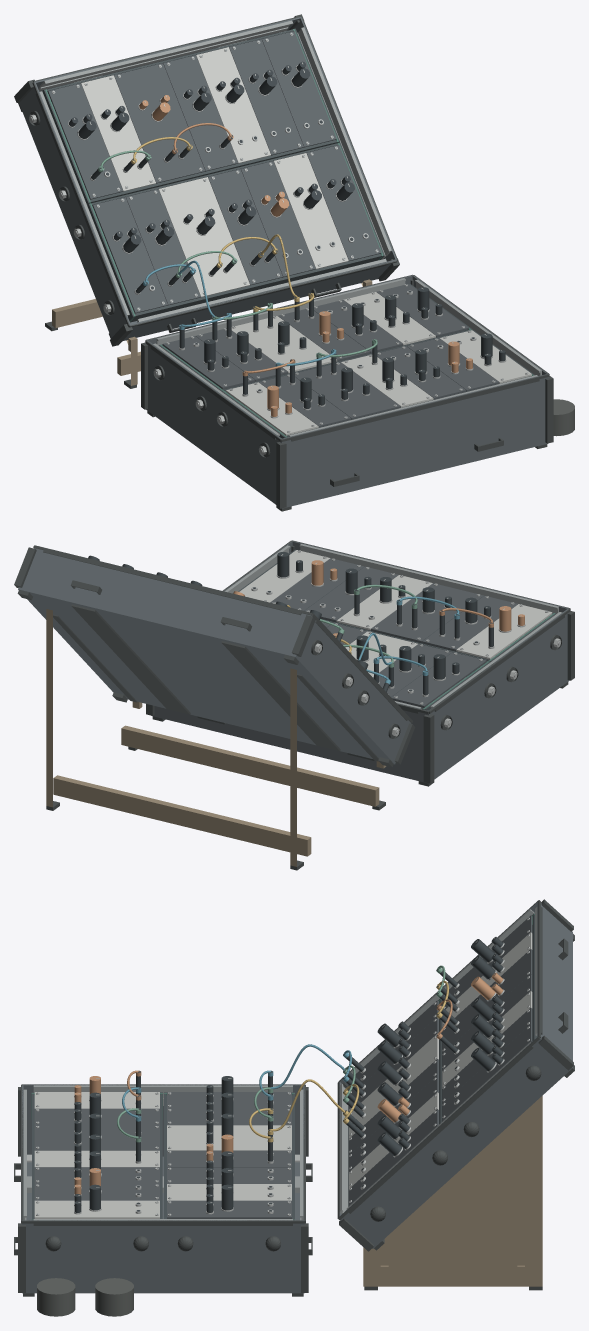
Rendered from B-play-TW-01.glb.
The picture shows the model from 3 angles, top to bottom: view 1: azimuth 30°, elevation 25°; view 2: azimuth 150°, elevation 25°; view 3: azimuth 270°, elevation 25°; orthographic projection. The views are drawn at different scales.
Visible parts, largest first — view 1: lid, base, world; view 2: lid, base, world; view 3: base, lid, world.
Boxes of the visible parts, <box> form: lid: <box>14,14,399,346</box>; base: <box>141,274,553,511</box>; world: <box>45,234,574,436</box>; lid: <box>14,545,415,767</box>; base: <box>146,540,574,786</box>; world: <box>46,605,392,870</box>; base: <box>14,1070,312,1296</box>; lid: <box>337,899,574,1251</box>; world: <box>37,1044,542,1316</box>.
Bounding box in the file's own units: 0.3884 × 0.2953 × 0.5754.
